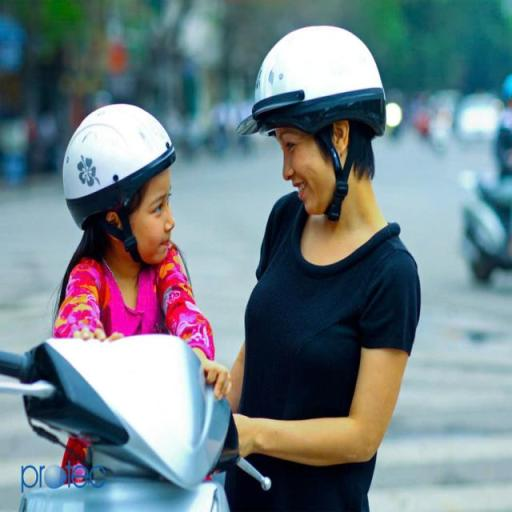with helmet: (229, 22, 393, 150), (58, 102, 178, 236)
